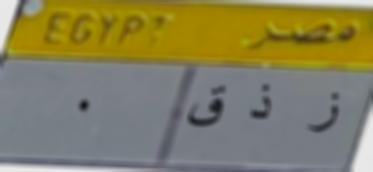0: (76, 88, 95, 122)
qaaf: (188, 82, 228, 134)
zaal: (246, 74, 276, 129)
zay: (305, 83, 344, 140)
